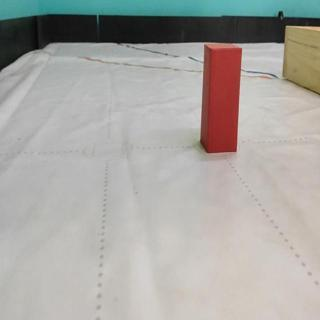redbox: (200, 41, 242, 154)
